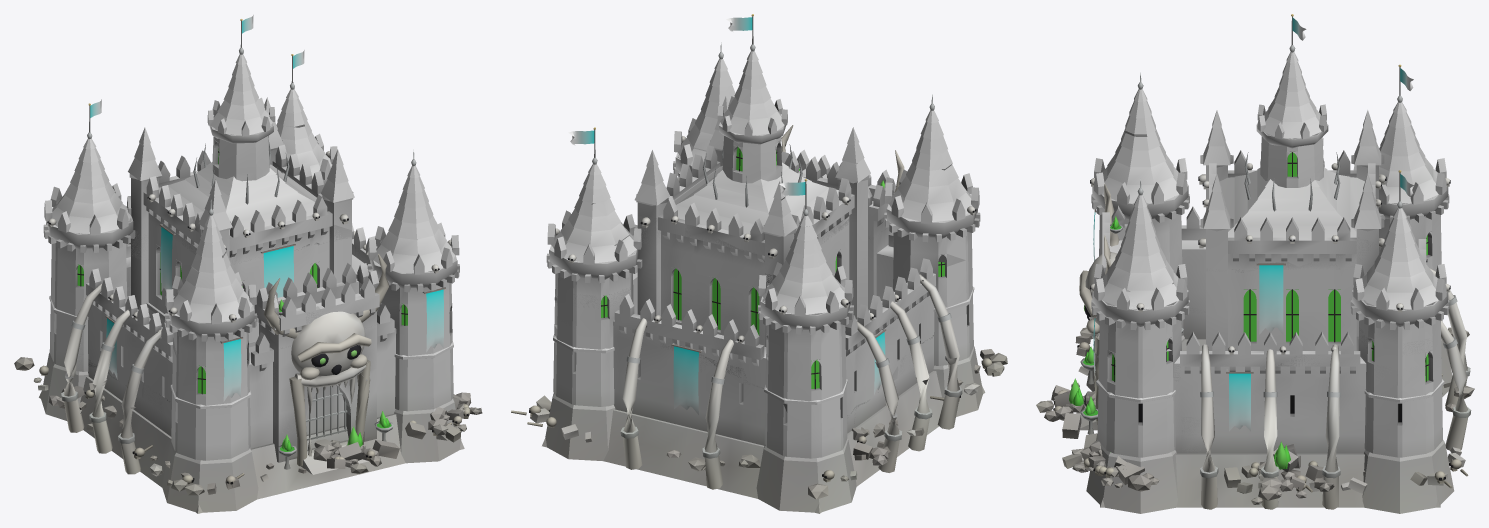
Rendered from keep_ashen.glb.
The picture shows the model from 3 angles, left to right: view 1: azimuth 30°, elevation 25°; view 2: azimuth 150°, elevation 25°; view 3: azimuth 270°, elevation 25°; orthographic projection. The views are drawn at different scales.
Parts seen in each view (by area): view 1: stage0, stage3, stage2; view 2: stage0, stage3, stage2; view 3: stage0, stage3, stage2, stage1.
Boxes of the visible parts, bbox=[...] form: stage0: bbox=[38, 15, 464, 513]; stage3: bbox=[14, 254, 482, 491]; stage2: bbox=[48, 124, 481, 495]; stage0: bbox=[511, 14, 992, 513]; stage3: bbox=[553, 228, 1004, 499]; stage2: bbox=[536, 147, 1007, 470]; stage0: bbox=[1076, 14, 1471, 513]; stage3: bbox=[1036, 299, 1469, 507]; stage2: bbox=[1071, 208, 1454, 504]; stage1: bbox=[1075, 131, 1474, 490].
Size of the model in its own units: 23.28 by 25.44 by 23.86.
